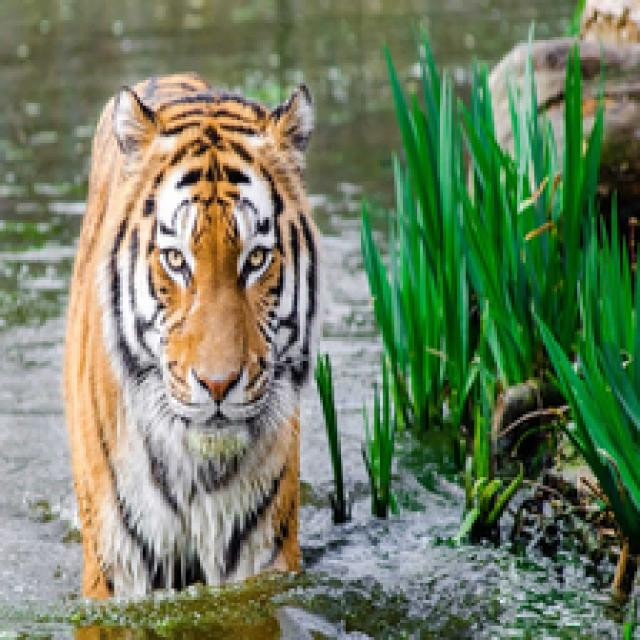tiger: (58, 64, 329, 595)
